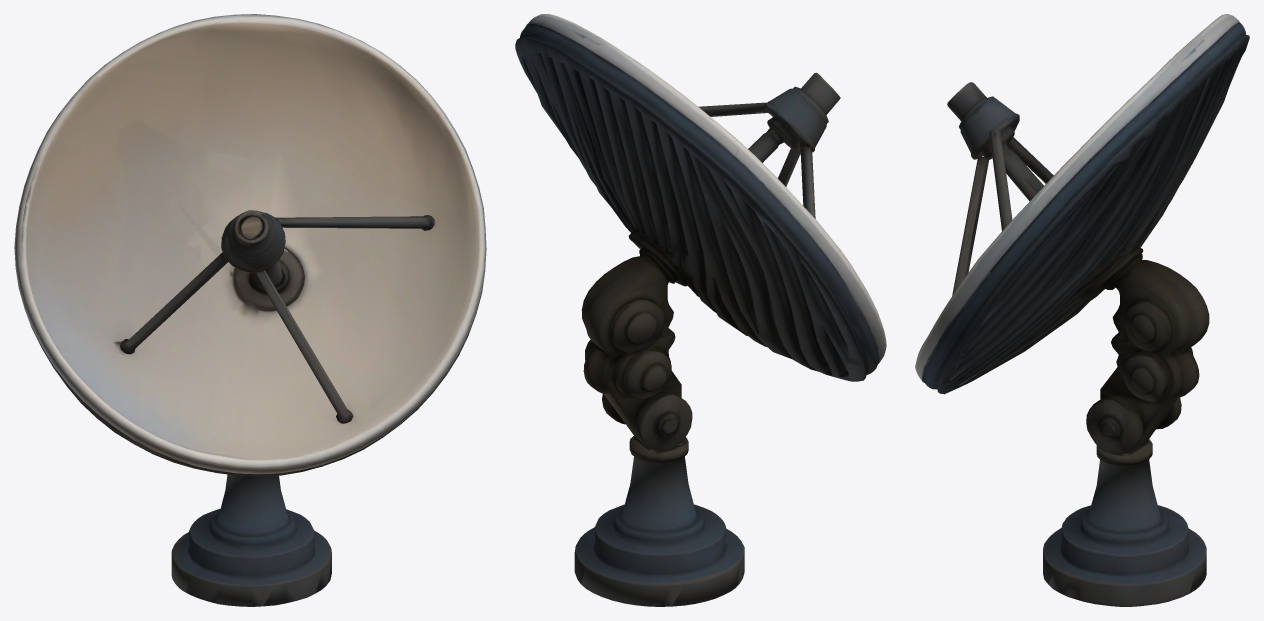
File: a_satellite_dish_2dae6111_v3.glb
3 views of the same model, side by side, from view 1: azimuth 30°, elevation 25°; view 2: azimuth 150°, elevation 25°; view 3: azimuth 270°, elevation 25° (orthographic). The views are drawn at different scales.
Parts seen in each view (by area): view 1: material; view 2: material; view 3: material.
Boxes of the visible parts, x1=… form: material: x1=14, y1=14, x2=486, y2=606; material: x1=515, y1=14, x2=886, y2=606; material: x1=915, y1=14, x2=1249, y2=606.
Bounding box in the file's own units: 1.45 × 1.9 × 1.06.
1 material, 1 textured.
